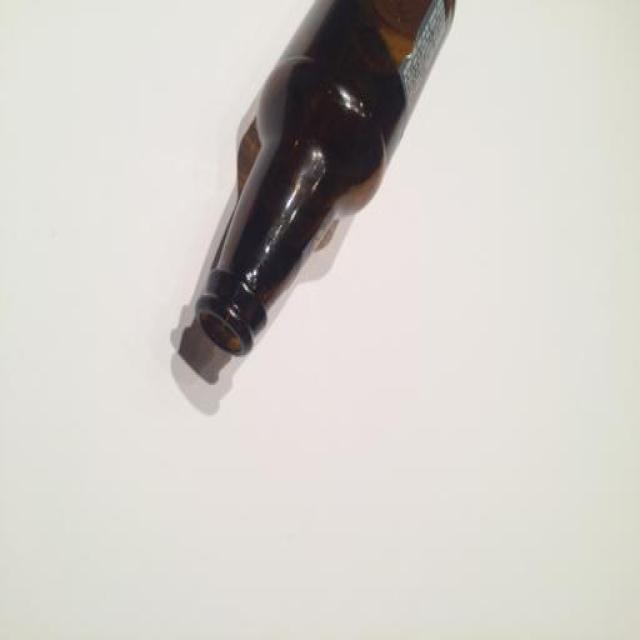glass: (116, 1, 488, 420)
